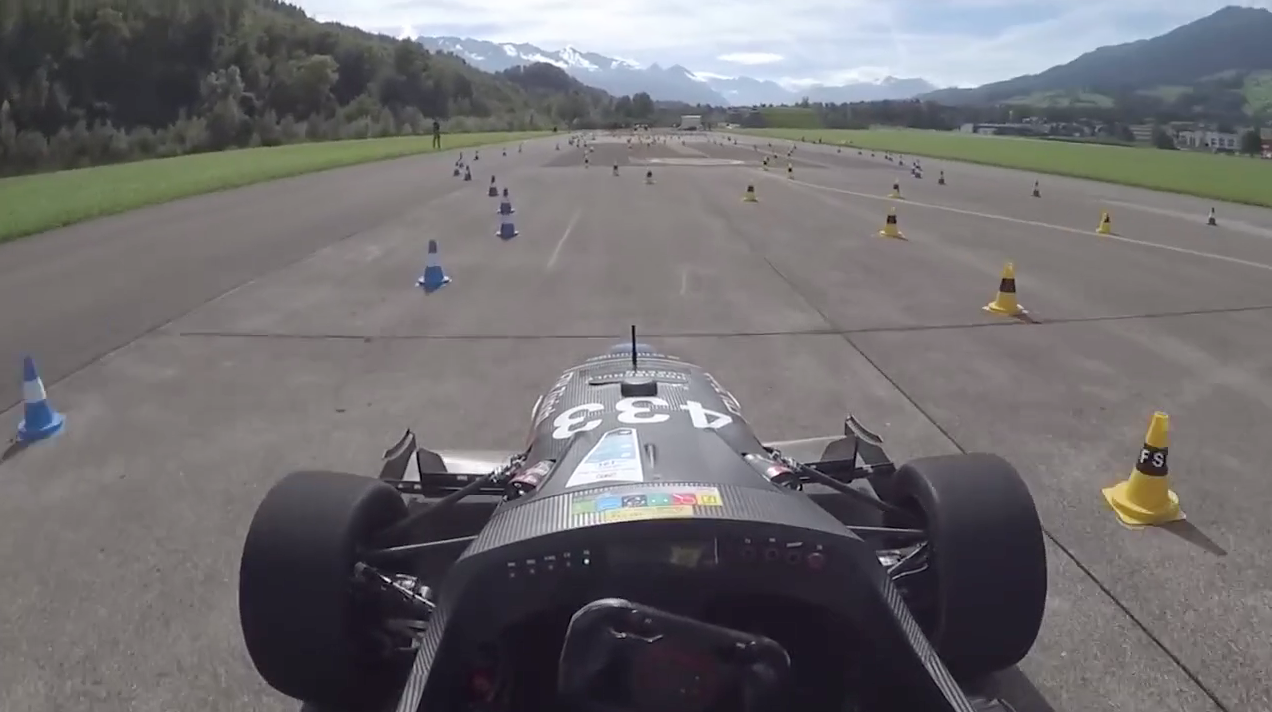lcone: (6, 348, 77, 449), (410, 233, 453, 292), (490, 201, 522, 240)
rcone: (1096, 405, 1195, 533), (978, 258, 1027, 323), (875, 203, 907, 242)
